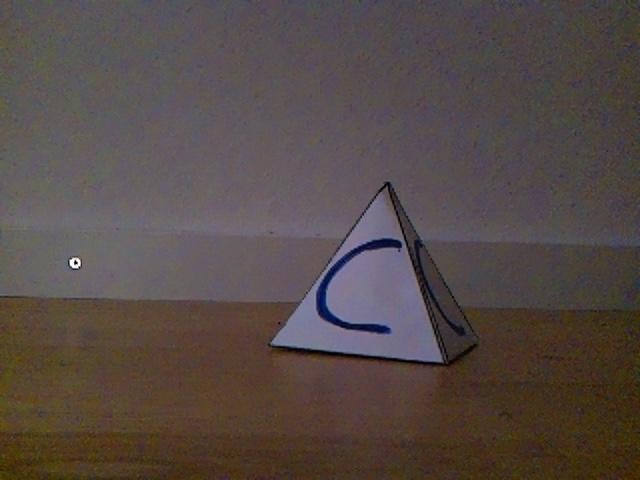C: (273, 181, 484, 363)
